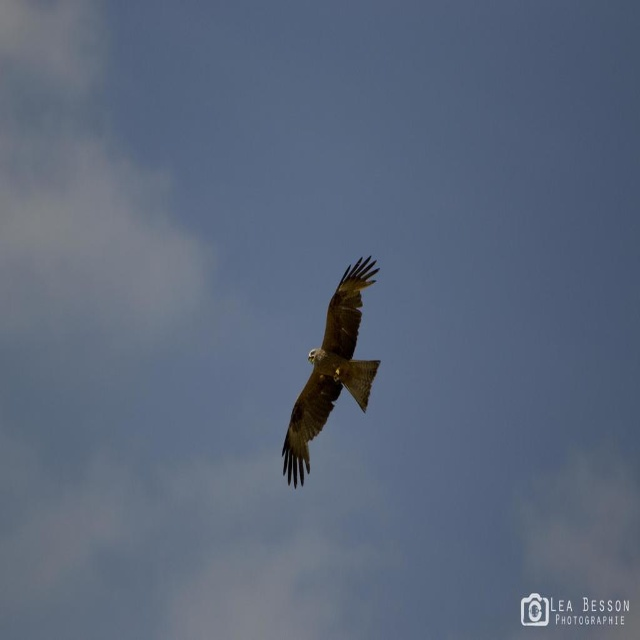Eagle: (282, 255, 381, 489)
